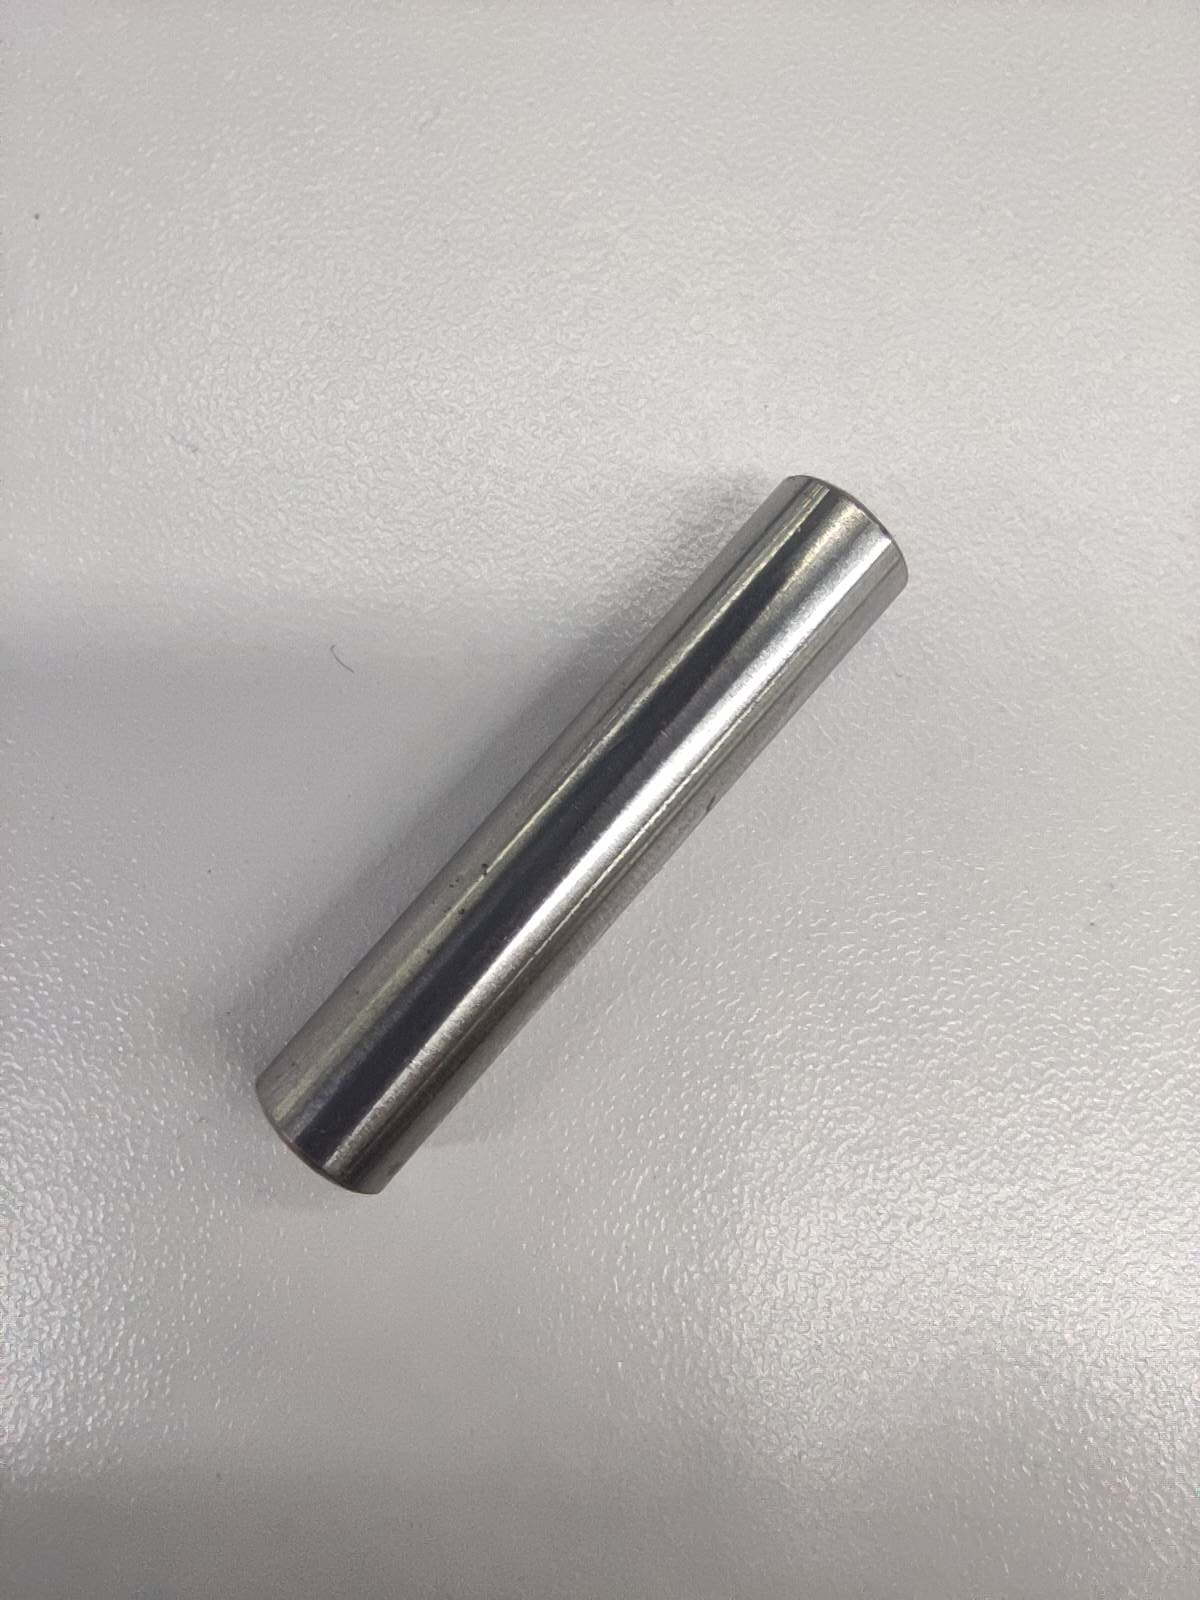销钉: (255, 474, 909, 1194)
